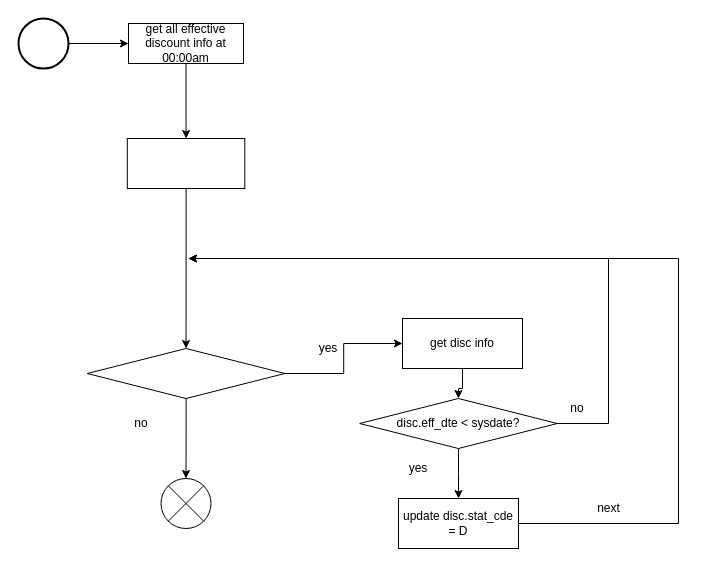
Some shapes in this 704 by 566 pixel diagram are drawn without their labels. The shapes that lost their labels are listed below. From the top down, each one's box as (x1, y1, x2, y2) in pixels, then its label:
(126, 138, 245, 188): int i = 0
(86, 348, 285, 398): i < disc_list.size?
